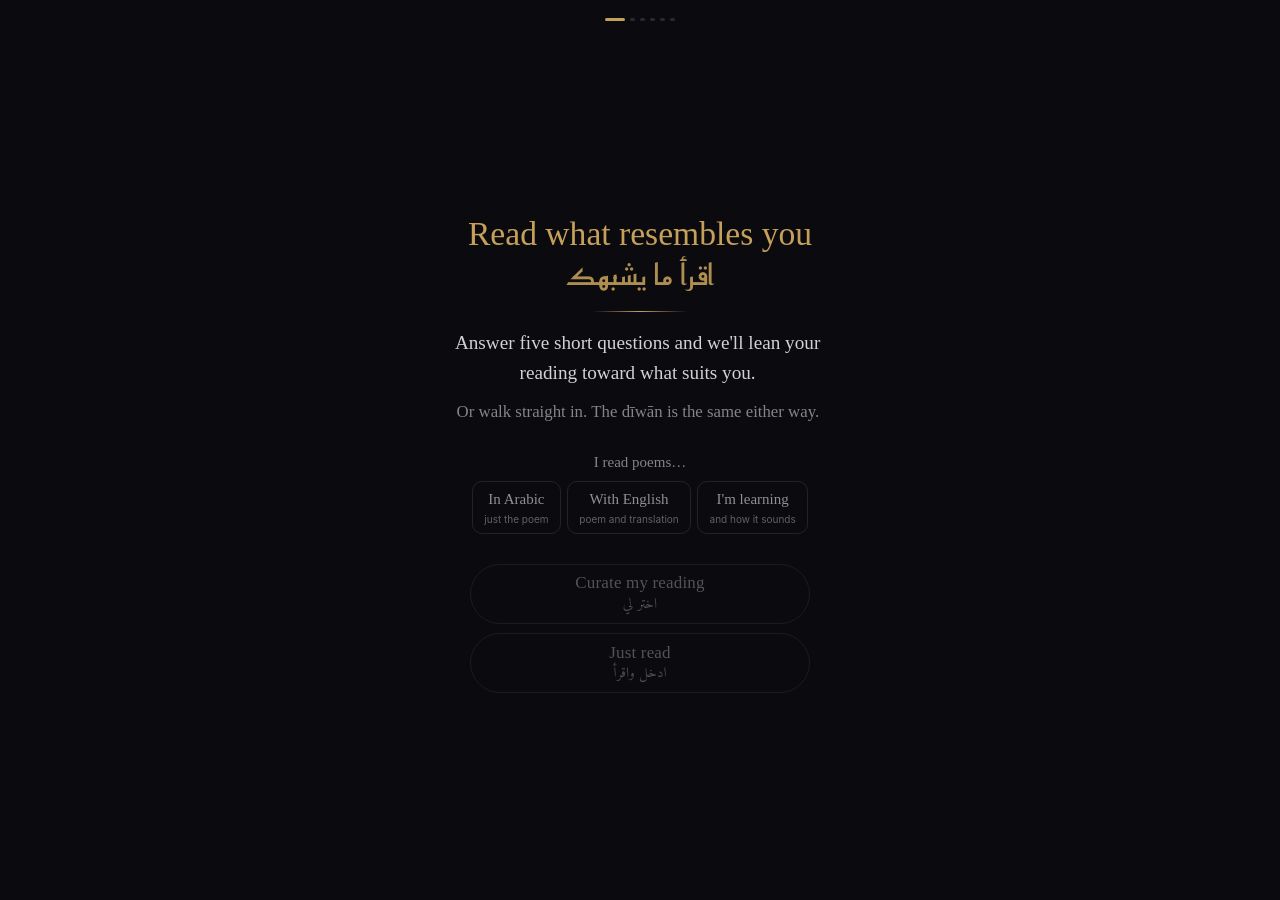
Test: OnboardingFlow › keeps both welcome doors locked until the reading posture is answered
Check: the button with test id "onboarding-welcome-continue" is disabled, box [470,564,810,624]
Check: the button with test id "onboarding-welcome-skip-all" is disabled, box [470,633,810,693]
Click the button with test id "onboarding-welcome-posture-option" showing "In Arabic just the poem" at {"x": 516, "y": 507}, box [472,481,561,534]
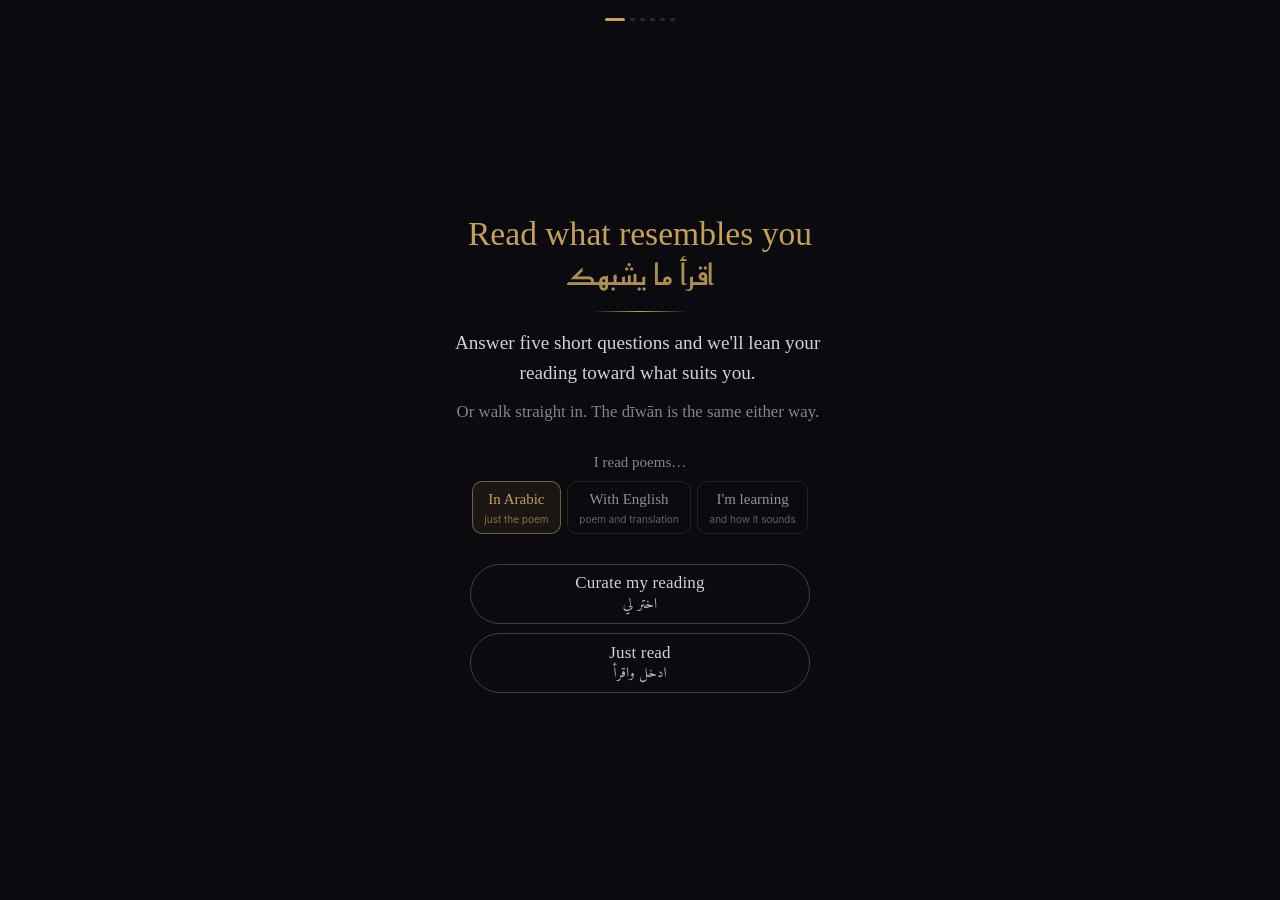
Check: the button with test id "onboarding-welcome-continue" is enabled, box [470,564,810,624]
Check: the button with test id "onboarding-welcome-skip-all" is enabled, box [470,633,810,693]
